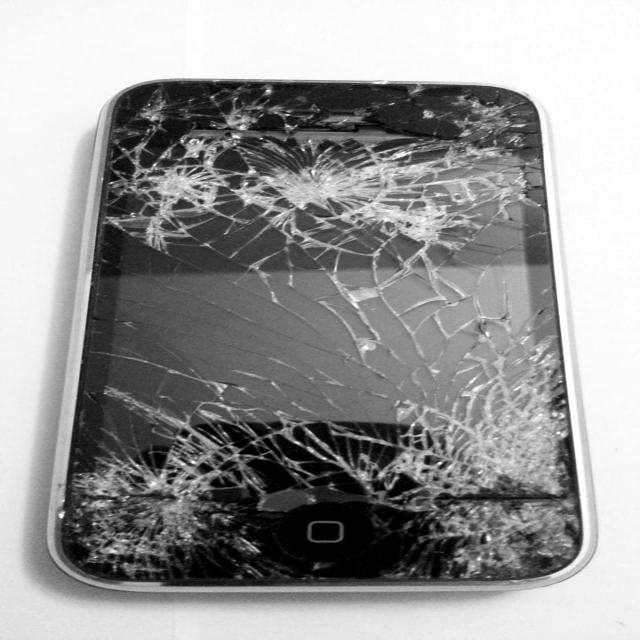Crack: (27, 49, 622, 335), (388, 355, 639, 600), (34, 341, 271, 571), (275, 335, 433, 604)
